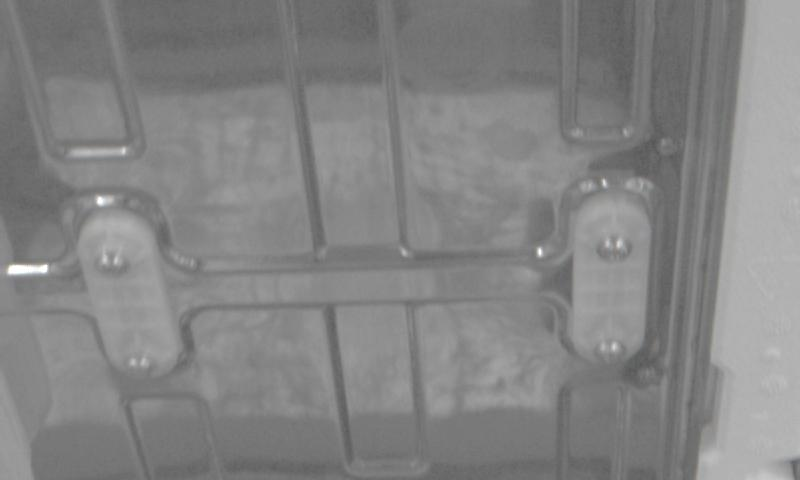vida-ok: (595, 229, 642, 273), (90, 244, 136, 288), (587, 332, 633, 371), (115, 344, 160, 383)
